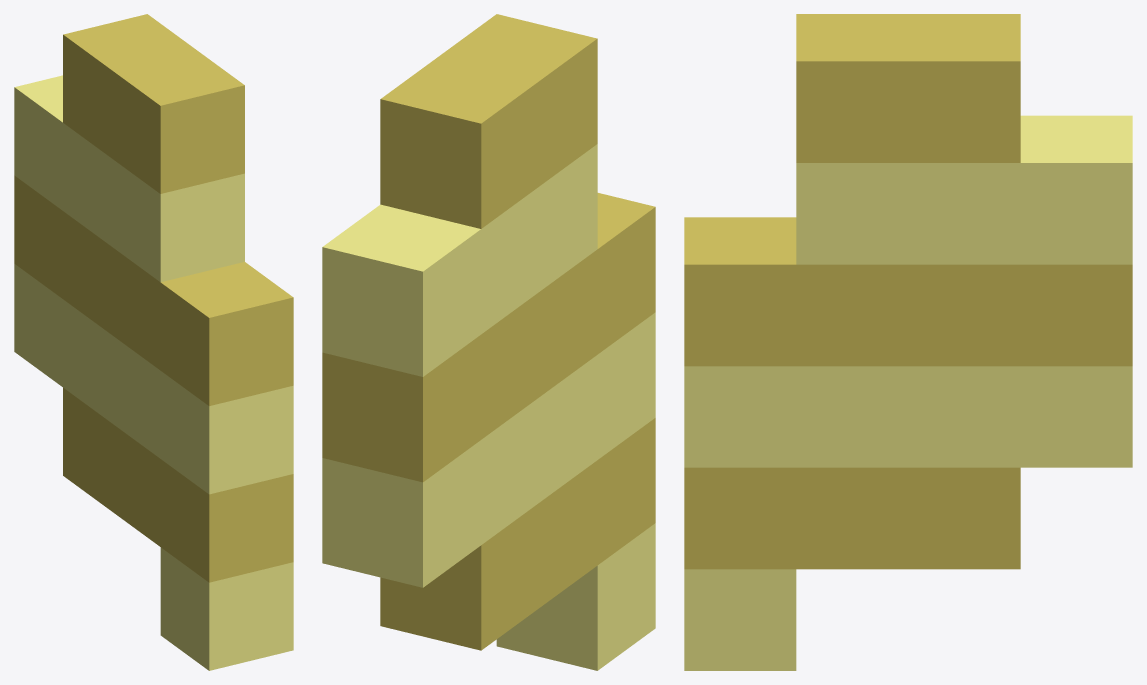
The model's file is YellowHouseParts-12.obj.
3 renders of one model, left to right at view 1: azimuth 30°, elevation 25°; view 2: azimuth 150°, elevation 25°; view 3: azimuth 270°, elevation 25°, orthographic. The views are drawn at different scales.
Bounding box in the file's own units: 0.1 × 0.6 × 0.4.
1 material, 1 textured.
